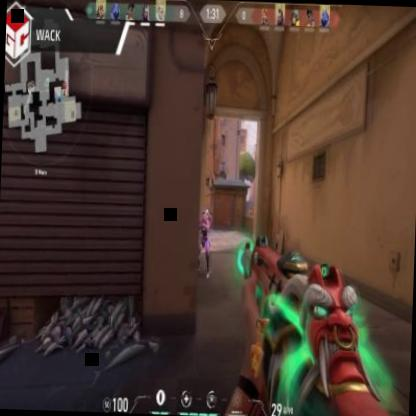enemy: (196, 208, 212, 278)
enemy_head: (200, 210, 208, 224)
